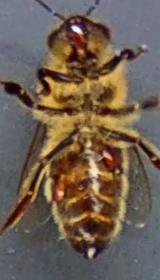varroa_mite: (86, 137, 128, 186), (40, 166, 76, 207)
